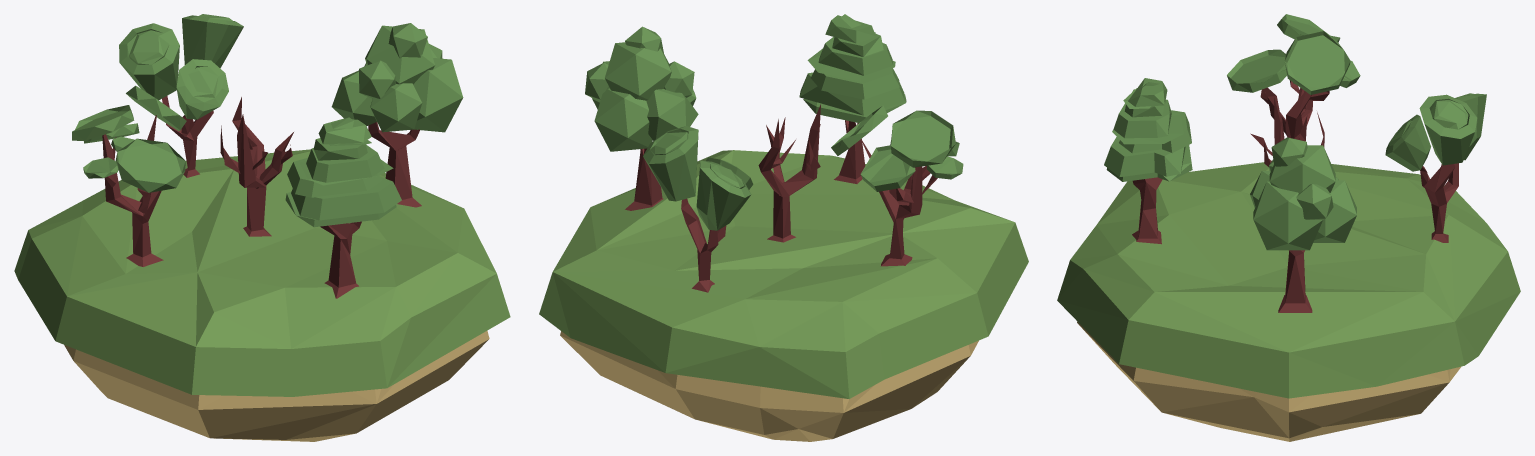
File: arboles.glb
The picture shows the model from 3 angles, left to right: view 1: azimuth 30°, elevation 25°; view 2: azimuth 150°, elevation 25°; view 3: azimuth 270°, elevation 25°; orthographic projection. The views are drawn at different scales.
Visible parts, largest first — view 1: Plane, Plane.001, Icosphere.003 (×2), Plane.007 (×2), Cylinder.001 (×2), Cylinder.003 (×2), Cylinder.000; view 2: Plane, Plane.001, Icosphere.003 (×2), Plane.007 (×2), Cylinder.003 (×2), Cylinder.001 (×2), Cylinder.000; view 3: Plane, Plane.001, Icosphere.003 (×2), Plane.007 (×2), Cylinder.003 (×2), Cylinder.001 (×2), Cylinder.000.
Boxes of the visible parts, x1,y1,x2,y2 form: Plane: (14,149,510,396); Plane.001: (64,330,489,441); Icosphere.003 (×2): (331,23,463,207); Plane.007 (×2): (285,117,401,298); Cylinder.001 (×2): (119,14,243,177); Cylinder.003 (×2): (72,85,186,266); Cylinder.000: (220,97,293,236); Plane: (539,150,1028,398); Plane.001: (560,331,978,441); Icosphere.003 (×2): (585,26,698,210); Plane.007 (×2): (799,14,906,183); Cylinder.003 (×2): (831,105,963,266); Cylinder.001 (×2): (643,126,753,292); Cylinder.000: (758,104,820,242); Plane: (1057,162,1520,398); Plane.001: (1077,322,1460,441); Icosphere.003 (×2): (1250,137,1356,312); Plane.007 (×2): (1104,78,1192,244); Cylinder.003 (×2): (1227,14,1360,138); Cylinder.001 (×2): (1385,93,1486,242); Cylinder.000: (1250,97,1324,166).
Bounding box in the file's own units: 37.38 × 31.18 × 37.38.
